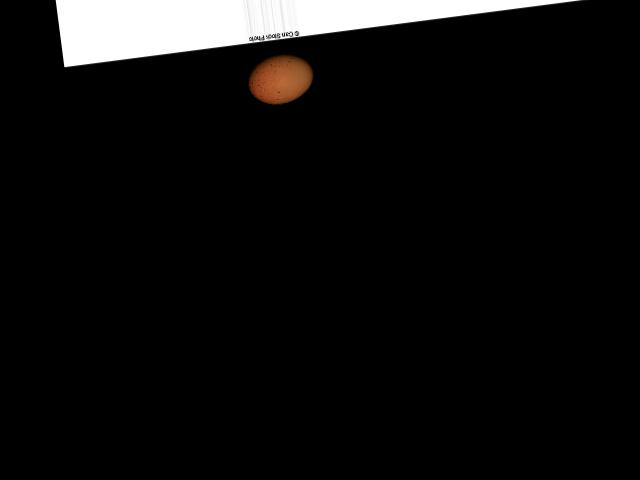egg: (244, 49, 316, 107)
